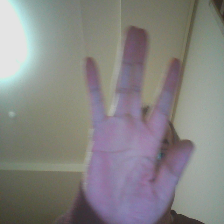hand: (83, 24, 197, 224)
